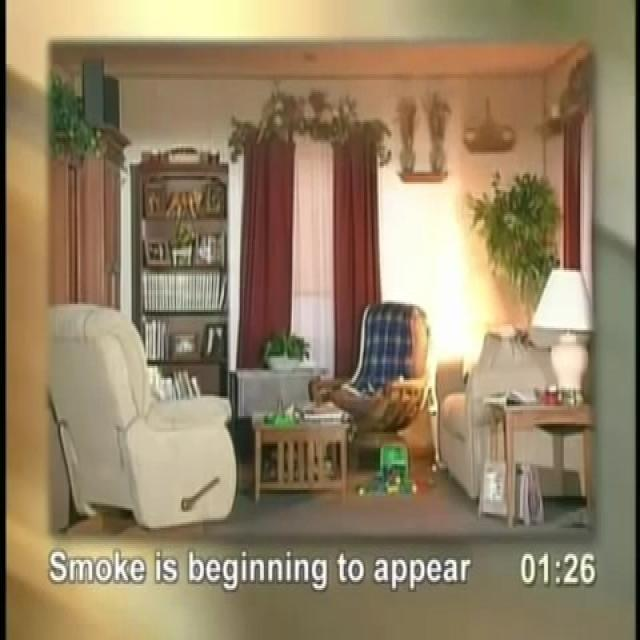Fire: (430, 240, 487, 360)
